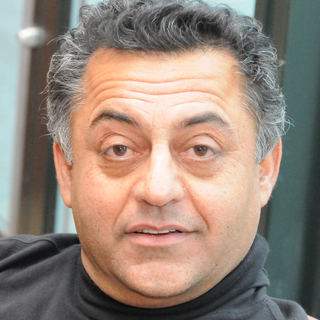eye: (96, 139, 142, 164), (180, 139, 227, 163)
